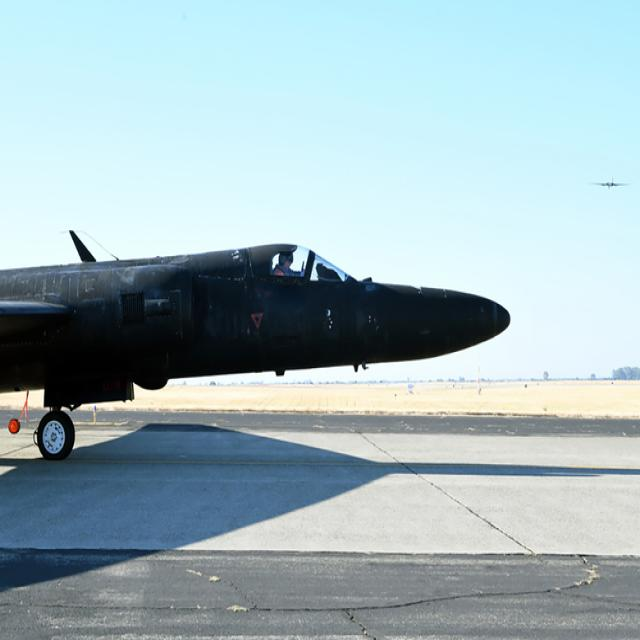MIL_Plane: (1, 229, 511, 460), (588, 176, 635, 190)
